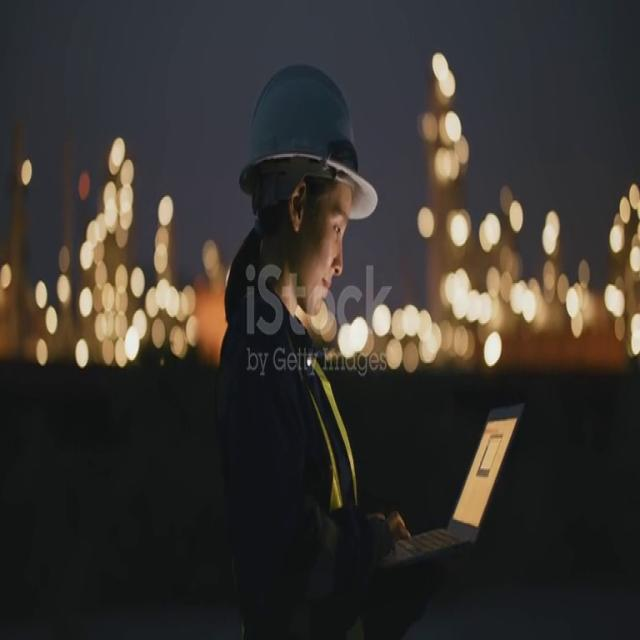capacete: (227, 58, 389, 245)
